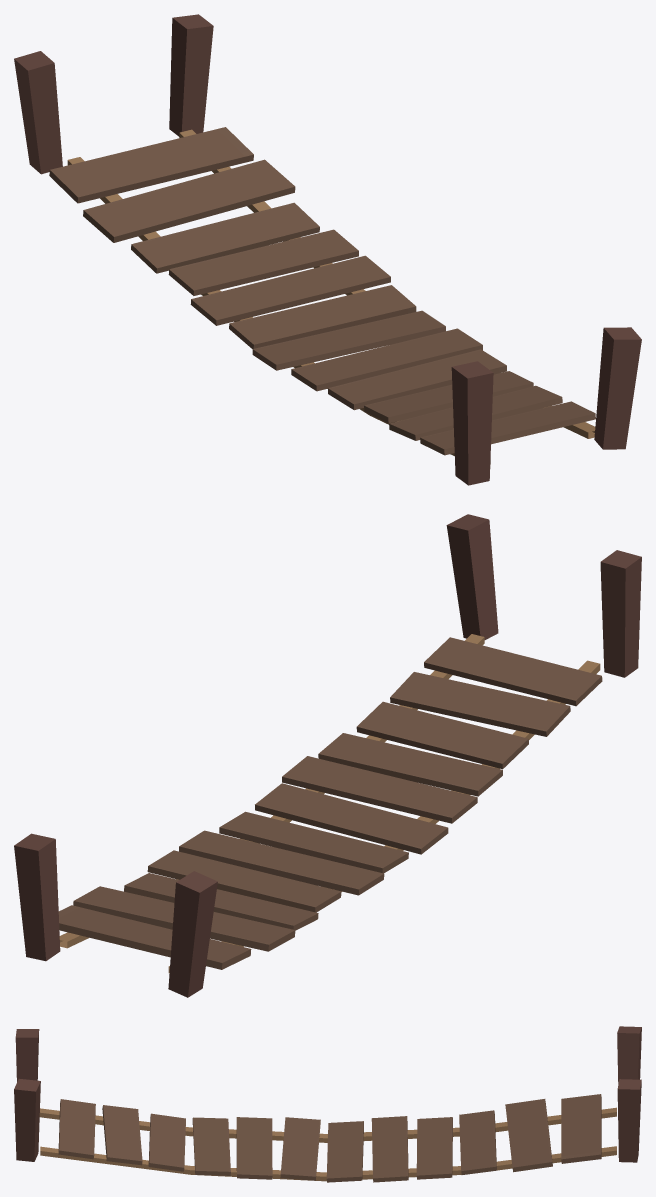
The model's file is Bridge-A03.fbx.
The picture shows the model from 3 angles, top to bottom: view 1: azimuth 30°, elevation 25°; view 2: azimuth 150°, elevation 25°; view 3: azimuth 270°, elevation 25°; orthographic projection. The views are drawn at different scales.
Visible parts, largest first — view 1: Bridge-A03; view 2: Bridge-A03; view 3: Bridge-A03.
Boxes of the visible parts, <box> form: Bridge-A03: <box>14,14,641,485</box>; Bridge-A03: <box>14,514,641,997</box>; Bridge-A03: <box>14,1026,641,1182</box>.
Size of the model in its own units: 297 by 214 by 1196.
